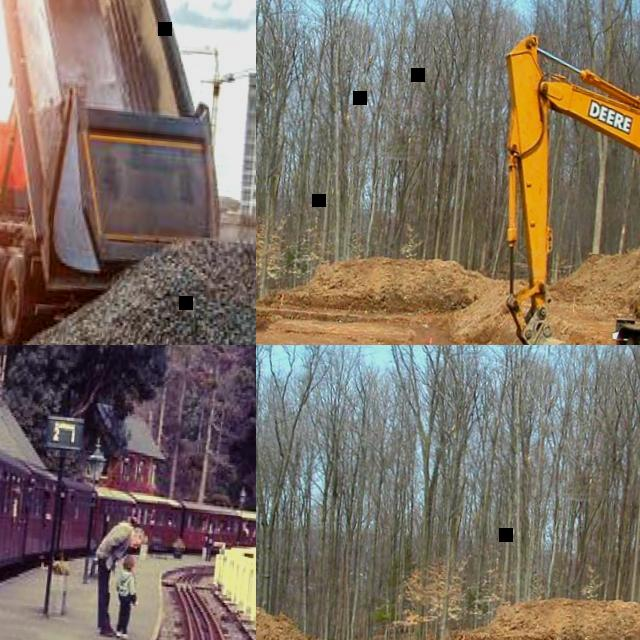machinery: (0, 0, 255, 345), (475, 30, 640, 345)
no_helmet: (122, 554, 136, 569), (134, 528, 143, 544)
no_mask: (128, 534, 137, 549), (130, 566, 134, 572)
no_vest: (100, 520, 130, 564), (117, 570, 135, 598)
person: (86, 518, 143, 640), (110, 553, 142, 640)
